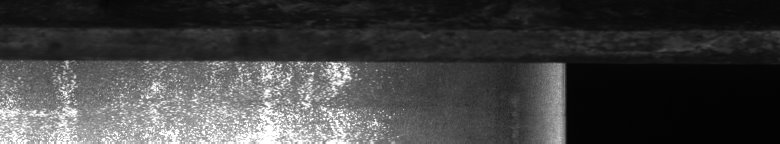kb: (4, 30, 425, 136)
